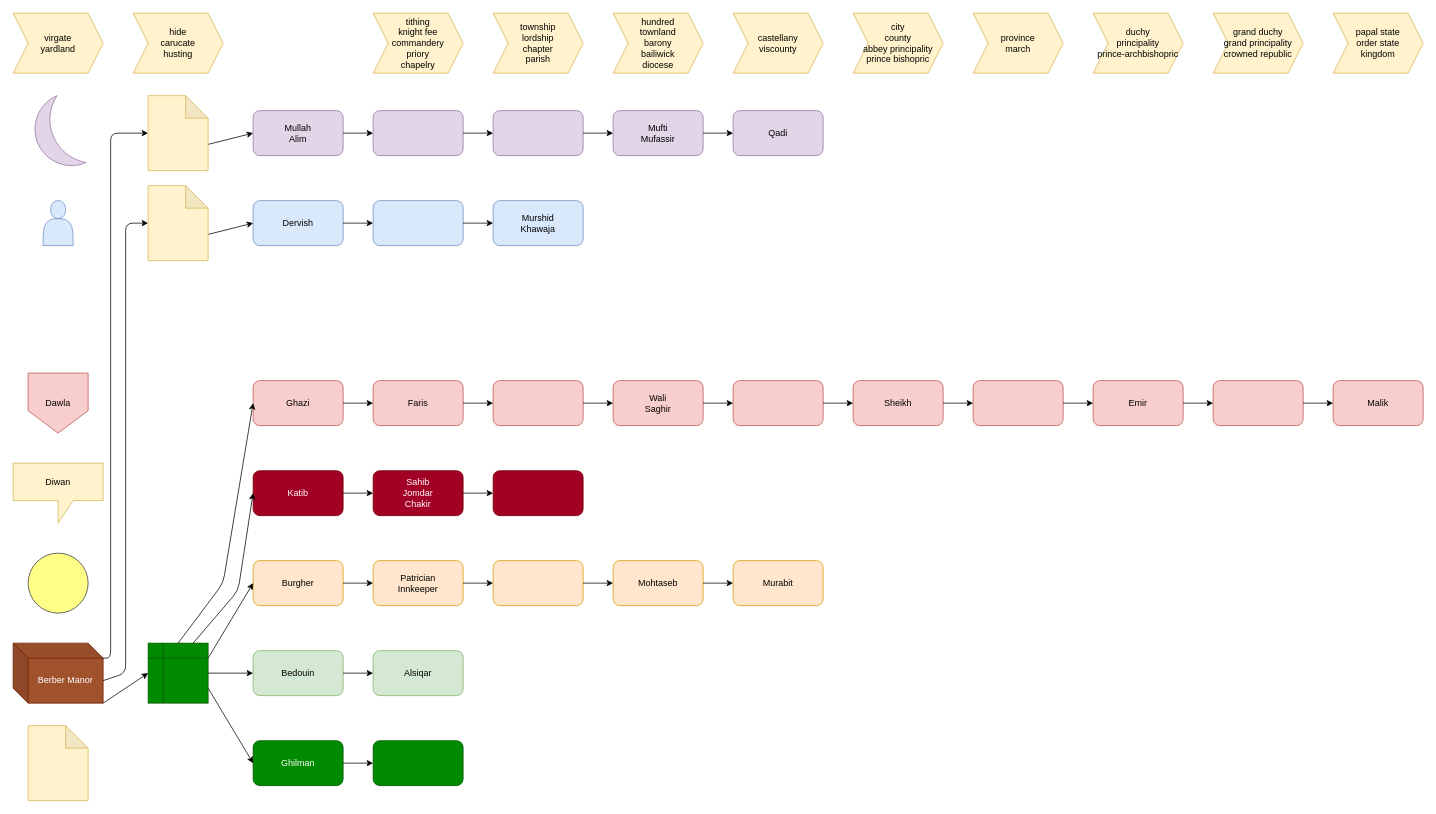
Some shapes in this 1436 by 814 pixel diagram are drawn without their labels. The shapes that lost their labels are listed below. From the top down, each one's centre as x and y in pixels, then its label:
the point at 57,133: Islam
the point at 177,133: Parish
the point at 417,133: Faqih
the point at 537,133: Imam
the point at 57,223: Sufi
the point at 177,223: School
the point at 417,223: Faqir
the point at 537,403: Sharif Vizier
the point at 777,403: Ustadar
the point at 1017,403: Hakim
the point at 1257,403: Grand Vizier
the point at 537,493: Hajib Mushrif
the point at 57,582: Dinar
the point at 537,583: Khazindar
the point at 177,672: croft
the point at 57,763: Devshirme
the point at 417,763: Mamluk
